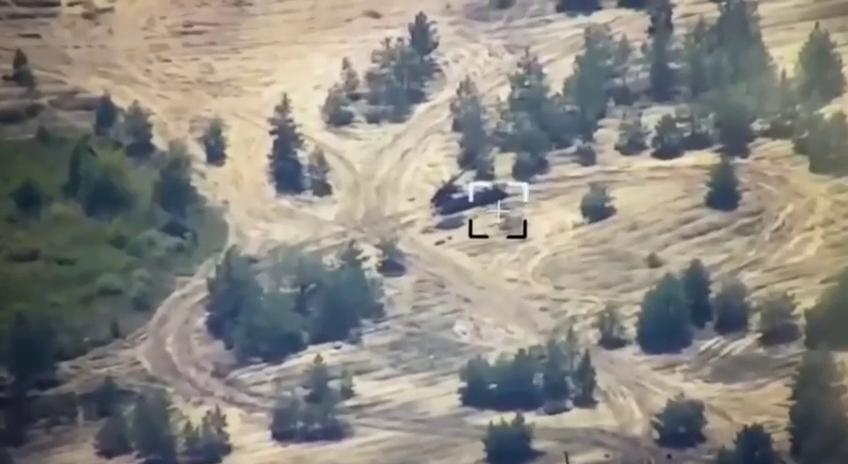tank: (430, 150, 516, 216)
